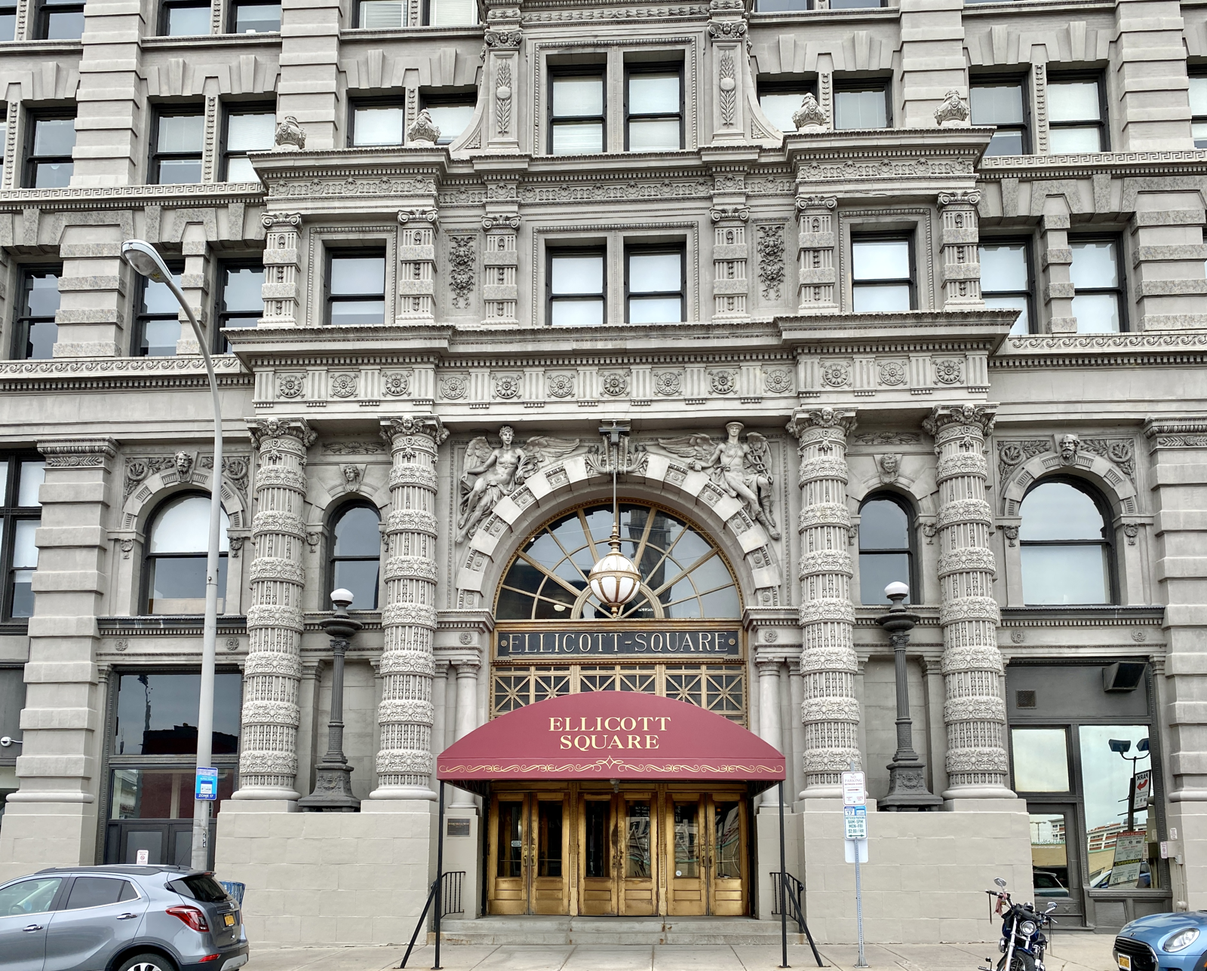fachada: (3, 8, 1207, 930)
poste: (103, 226, 262, 910), (865, 565, 961, 812), (297, 578, 377, 817)
